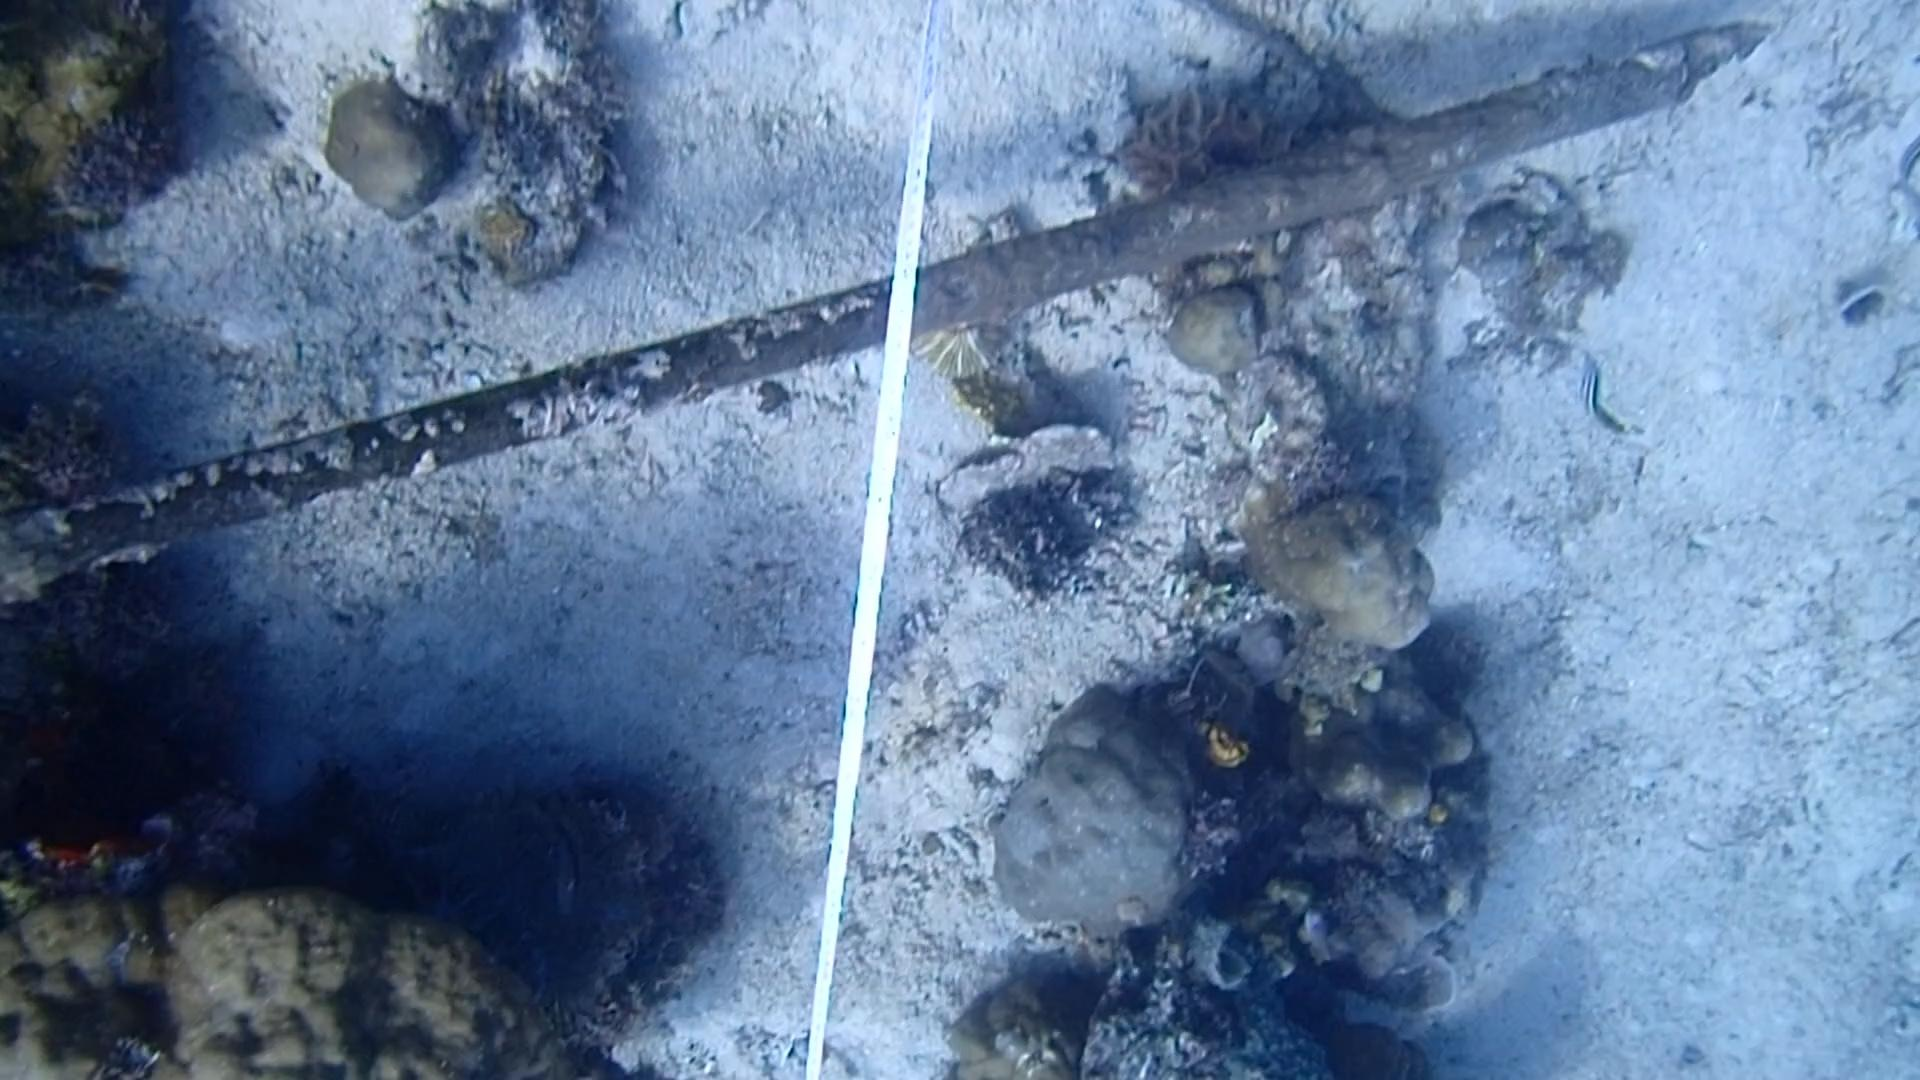Blue Nose Fish: (1280, 909, 1352, 965)
Dark Fish: (526, 793, 604, 905)
Striped Fish: (1561, 355, 1631, 444)
